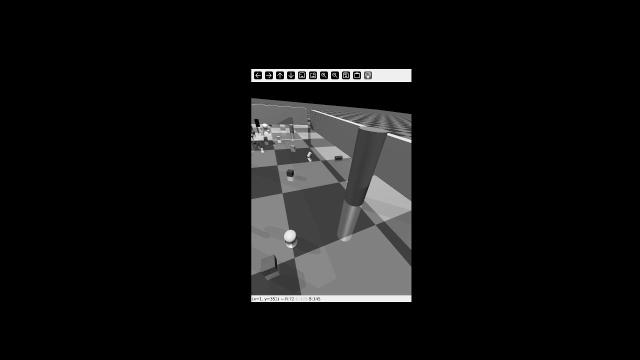cilindro: (344, 126, 389, 207), (333, 154, 345, 160), (306, 151, 315, 159), (254, 117, 261, 127), (289, 124, 295, 135), (260, 130, 265, 136), (272, 141, 276, 146), (256, 141, 259, 146)
cuadrado: (260, 254, 280, 276), (285, 169, 298, 178), (278, 124, 289, 132), (263, 136, 269, 142), (276, 135, 280, 141), (260, 147, 264, 153)
esfera: (280, 226, 299, 246), (262, 122, 267, 130), (251, 130, 255, 135), (250, 135, 255, 138), (267, 128, 270, 133), (253, 141, 256, 145), (268, 123, 270, 126), (270, 125, 272, 127)
rectangulo: (289, 144, 296, 151)
